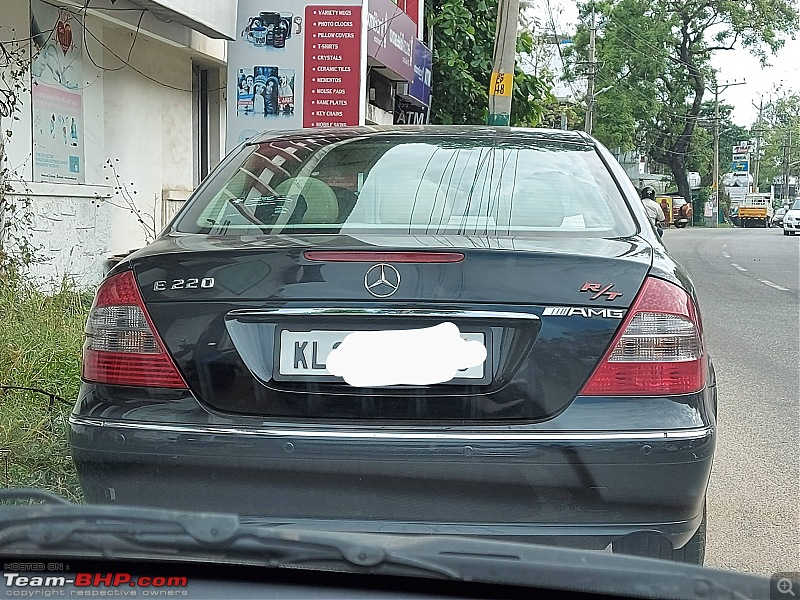car: (57, 117, 718, 569)
